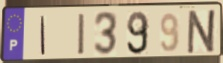3: (93, 10, 119, 58)
9: (126, 9, 151, 57), (159, 12, 182, 54)
I: (77, 12, 86, 57), (40, 14, 47, 56)
N: (185, 8, 219, 56)
